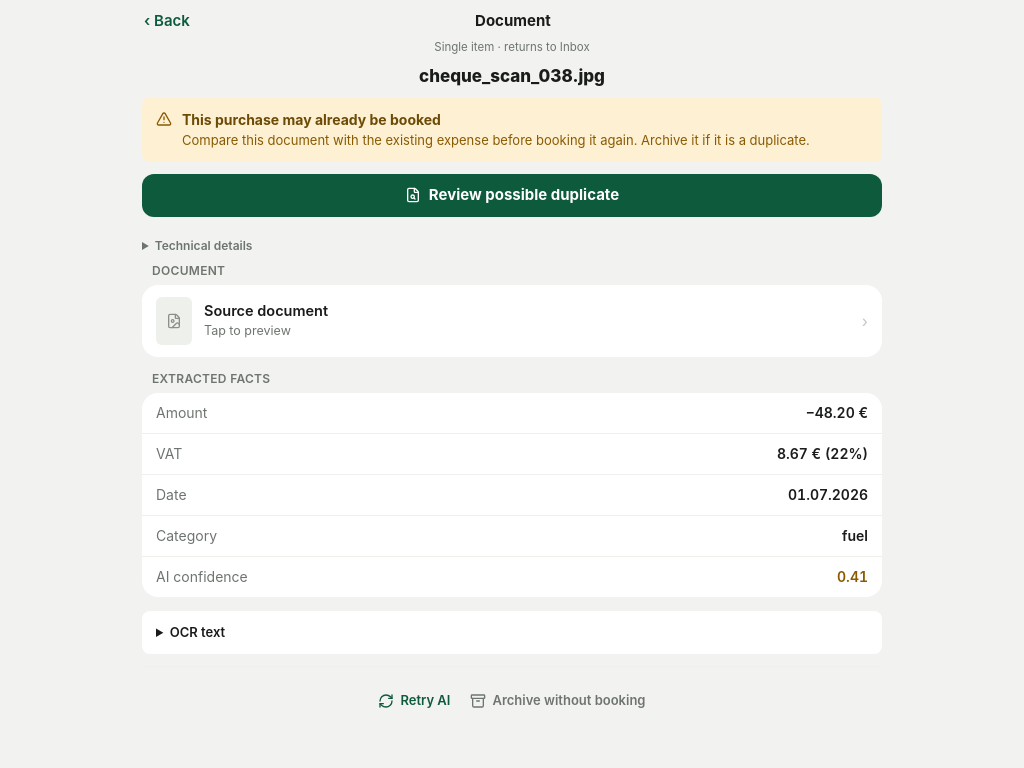
TriageDocScreen › renders document 195 with a possible-duplicate reason and allows review without booking
expect the heading "This purchase may already be booked" is shown: met, box [182,111,441,128]
expect the button "Archive without booking" is shown: met, box [470,679,646,723]
Click the button "Review possible duplicate".
click(512, 195)  # box [142,174,882,217]
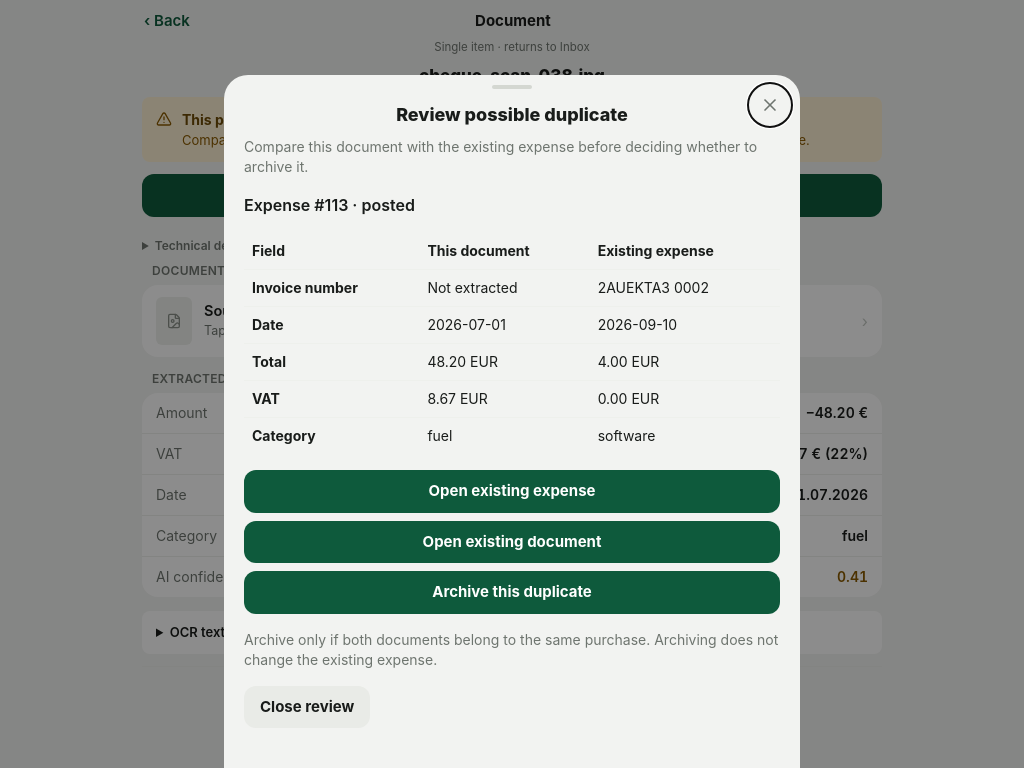
expect the text "Expense #113 · posted" is shown: met, box [244,195,415,215]
expect the text "4.00 EUR" is shown: met, box [590,344,780,380]
Click the button "Archive this duplicate".
click(512, 592)  # box [244,571,780,614]
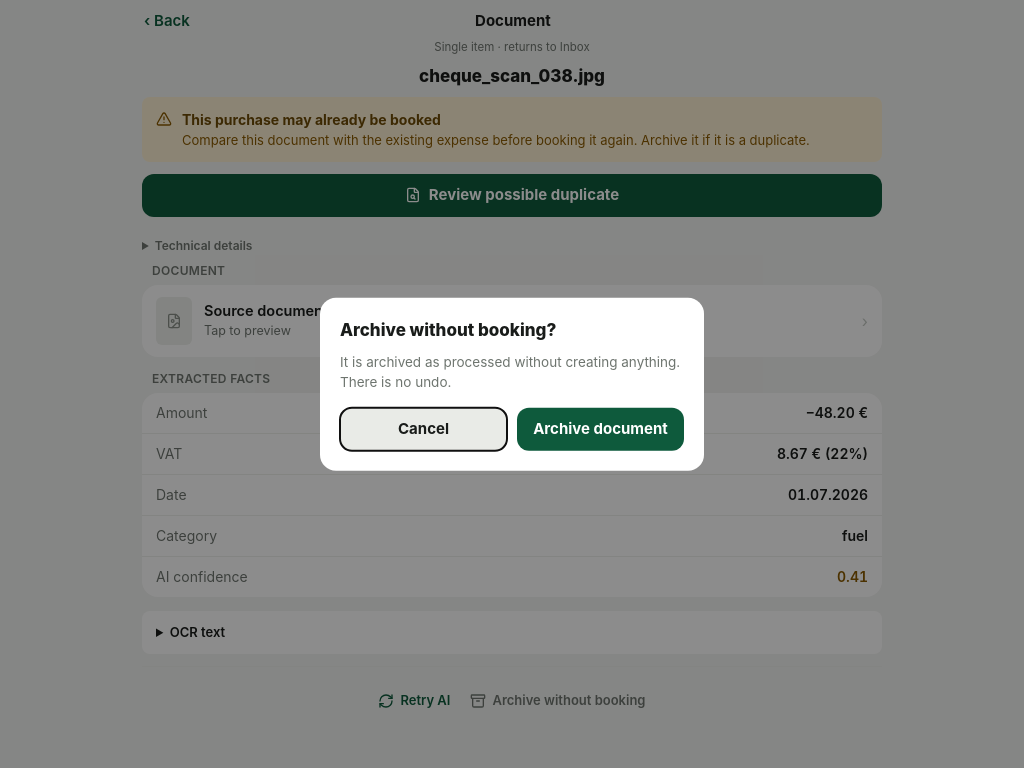
expect the dialog is shown: met, box [320,298,704,470]
